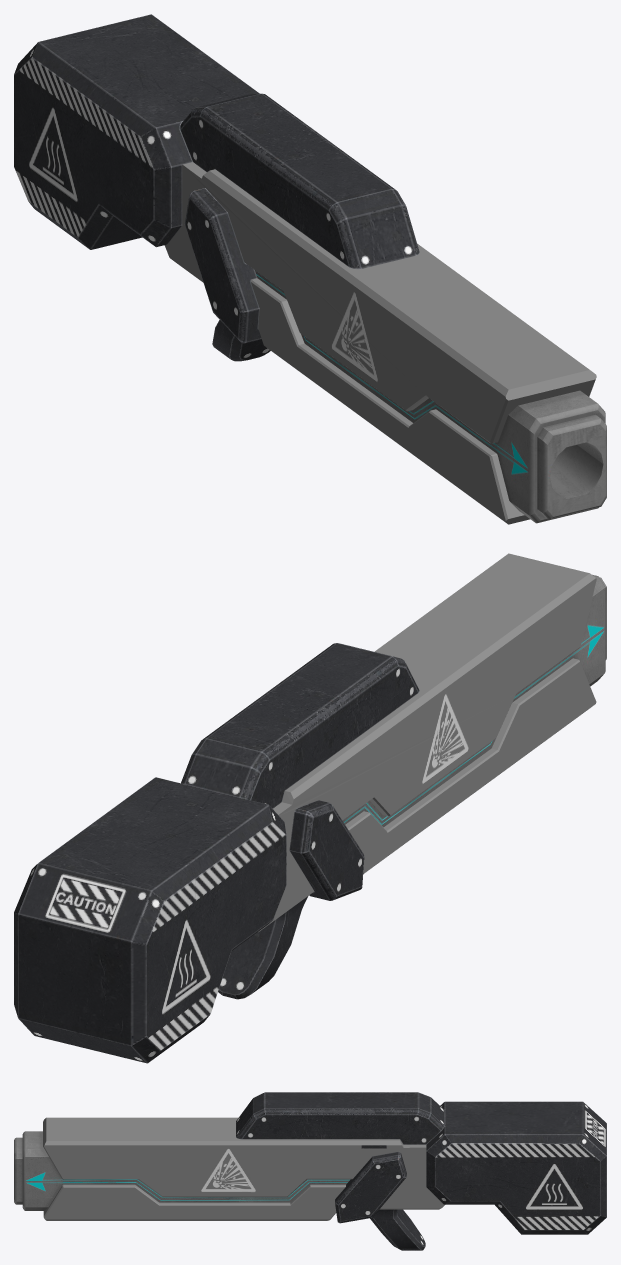
Rendered from plasma_rifle.FBX.
3 renders of one model, top to bottom at view 1: azimuth 30°, elevation 25°; view 2: azimuth 150°, elevation 25°; view 3: azimuth 270°, elevation 25°, orthographic. The views are drawn at different scales.
Visible parts, largest first — view 1: gunB; view 2: gunB; view 3: gunB.
Part boxes in pixels (x1,y1,x2,y2): gunB: (14,14,606,524); gunB: (14,553,606,1063); gunB: (14,1092,606,1250).
Size of the model in its own units: 0.0507 by 0.091 by 0.3318.
